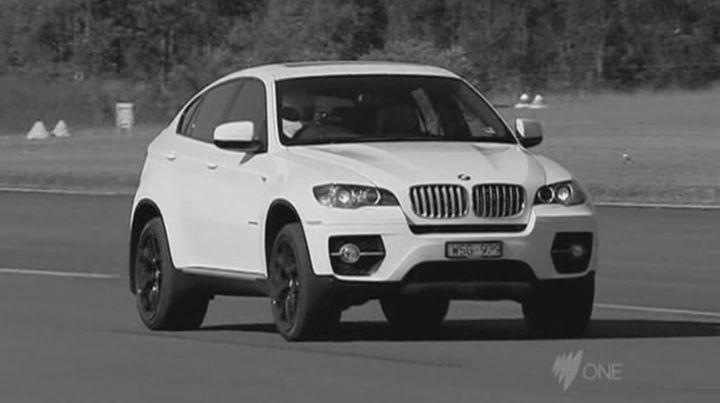car: (127, 61, 597, 344)
